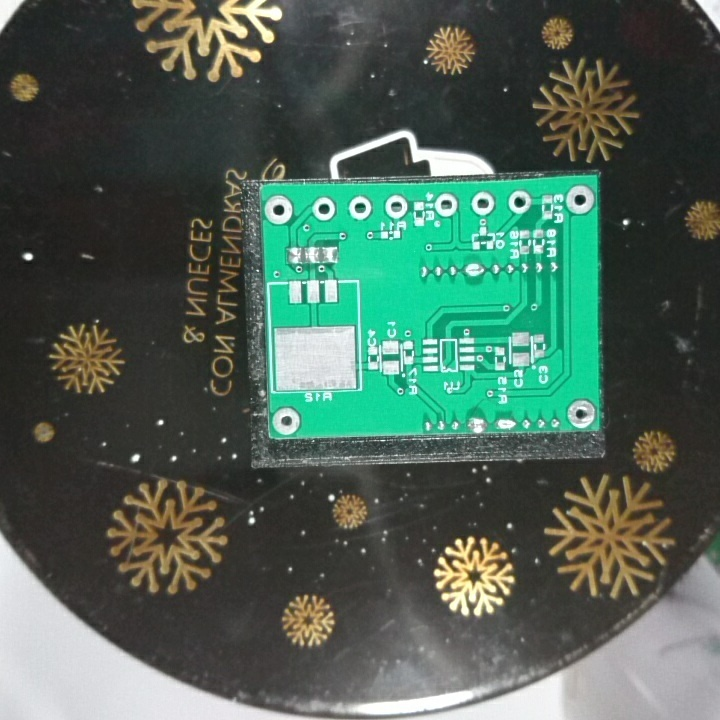F: (262, 192, 294, 227), (564, 398, 597, 430), (271, 406, 302, 438), (564, 185, 594, 217), (346, 192, 373, 223), (468, 189, 497, 217), (505, 188, 532, 215), (433, 192, 459, 218), (311, 195, 337, 221), (382, 193, 408, 218)
P: (462, 258, 487, 281), (466, 415, 491, 431), (494, 415, 517, 432)
